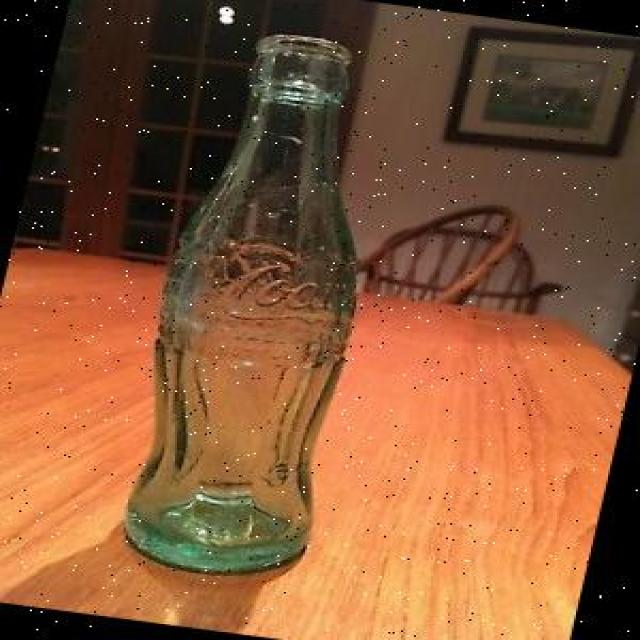coca-cola: (92, 16, 437, 597)
